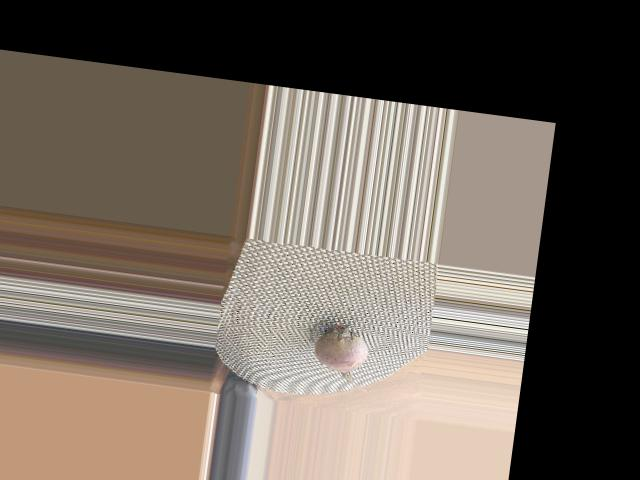beet: (302, 318, 379, 392)
